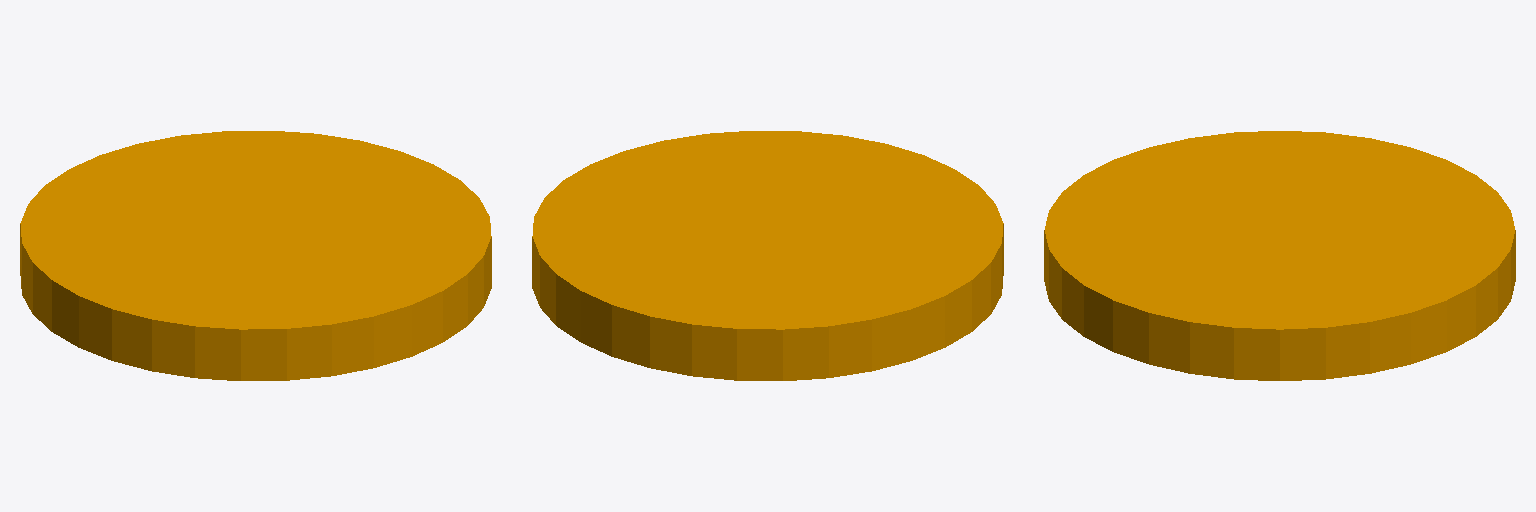
robot.urdf — testing2_cylinder_large:
<?xml version="1.0" ?>
<robot name="testing2_cylinder_large">

    <link name="testing2_cylinder_large">
        <visual>
            <origin rpy="1.5707963267948966 0 0" xyz="0 0 0"/>
            <geometry>
                <mesh filename="obj_files/testing2_cylinder_large.obj" scale="1 1 1"/>
            </geometry>
        </visual>
        <collision>
            <geometry>
                <mesh filename="obj_files/testing2_cylinder_large_collision.obj" scale="1 1 1"/>
            </geometry>
        </collision>
    </link>

</robot>

--- What the picture shows (computed from the rendered views, not written in the file) ---
3 views of the same robot in one strip: view 1: azimuth 30°, elevation 25°; view 2: azimuth 150°, elevation 25°; view 3: azimuth 270°, elevation 25° (orthographic).
Robot: testing2_cylinder_large — 1 links, 0 joints (none); root link testing2_cylinder_large; default pose: all joints at 0.
Visible links, largest first — view 1: testing2_cylinder_large; view 2: testing2_cylinder_large; view 3: testing2_cylinder_large.
Link boxes in pixels (left/top/right/bottom): testing2_cylinder_large: left=20, top=131, right=491, bottom=380; testing2_cylinder_large: left=532, top=131, right=1003, bottom=380; testing2_cylinder_large: left=1044, top=131, right=1515, bottom=380.
Size in the robot's own frame: 0.4949 by 0.4949 by 0.06 metres.
Meshes: 1 distinct files referenced, 1 mesh visuals loaded (1 OBJ).